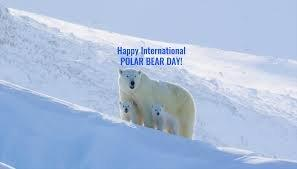bear: (112, 68, 200, 145), (151, 99, 183, 137), (116, 98, 147, 129)
